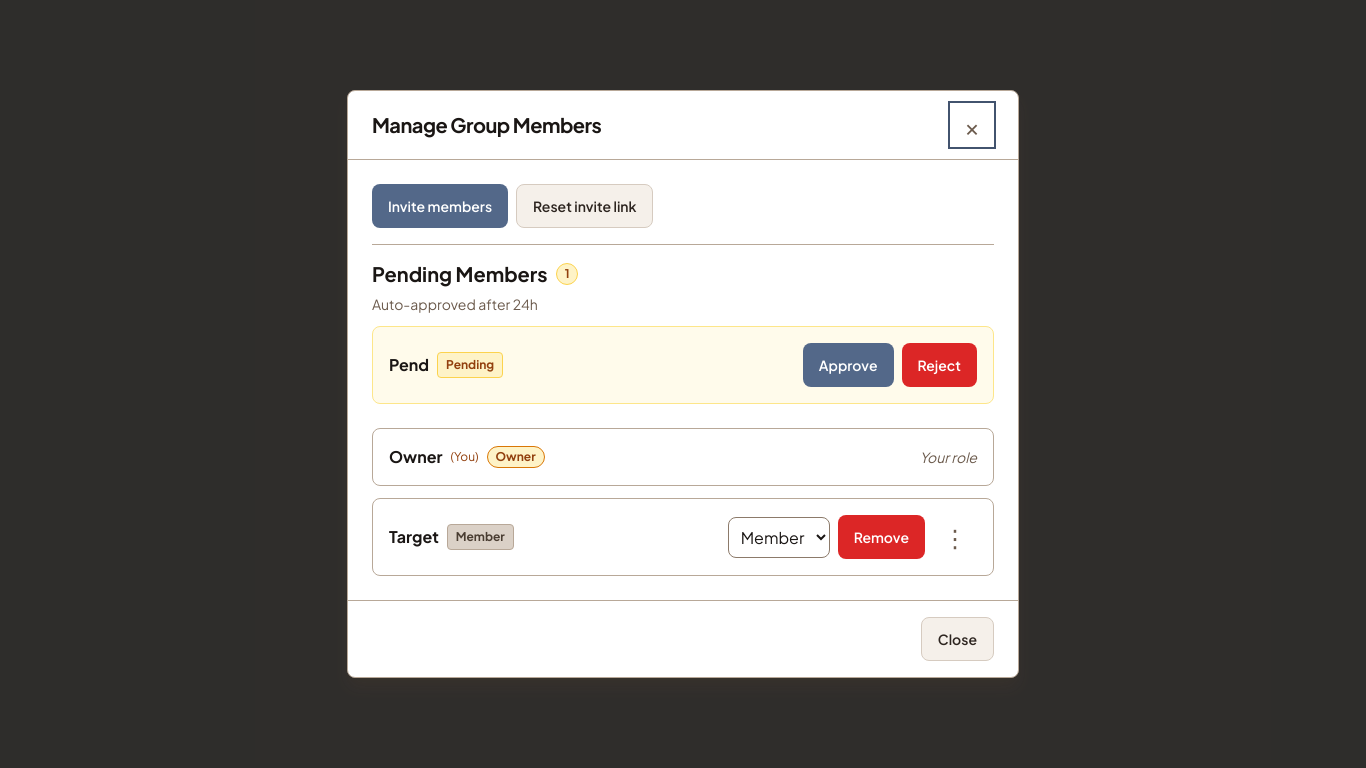
Test: ManageMembers Req 11 gates — blocking semantics (no API call until confirmed) › reject pending member: cancel aborts
expect the dialog "Manage Group Members" is shown: met, box x1=347 y1=90 x2=1019 y2=678
What coordinates should you click on to do the following:
click the button "Reject"
I would click on:
 (939, 365)
Its box is x1=902 y1=343 x2=977 y2=387.
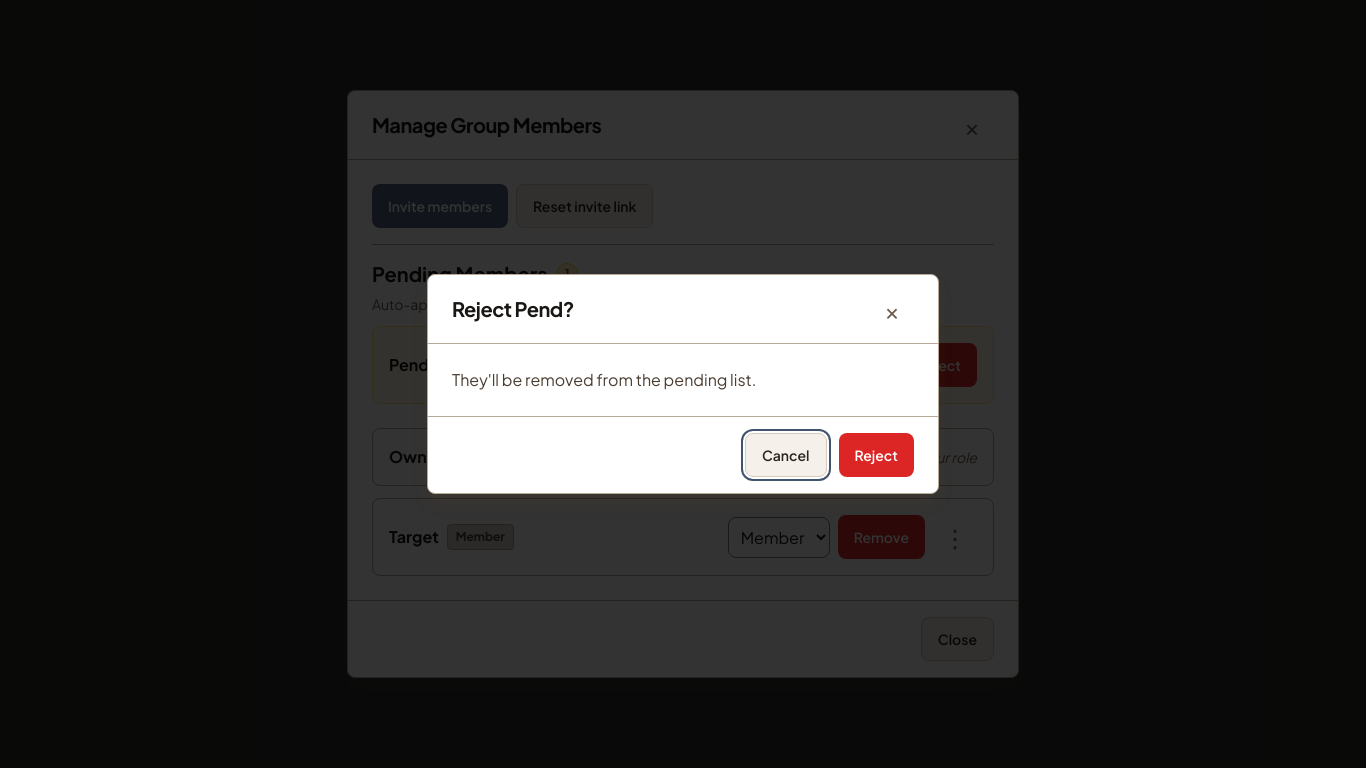
What coordinates should you click on to do the following:
click the button "Cancel"
I would click on:
 (786, 455)
Its box is x1=745 y1=433 x2=826 y2=477.
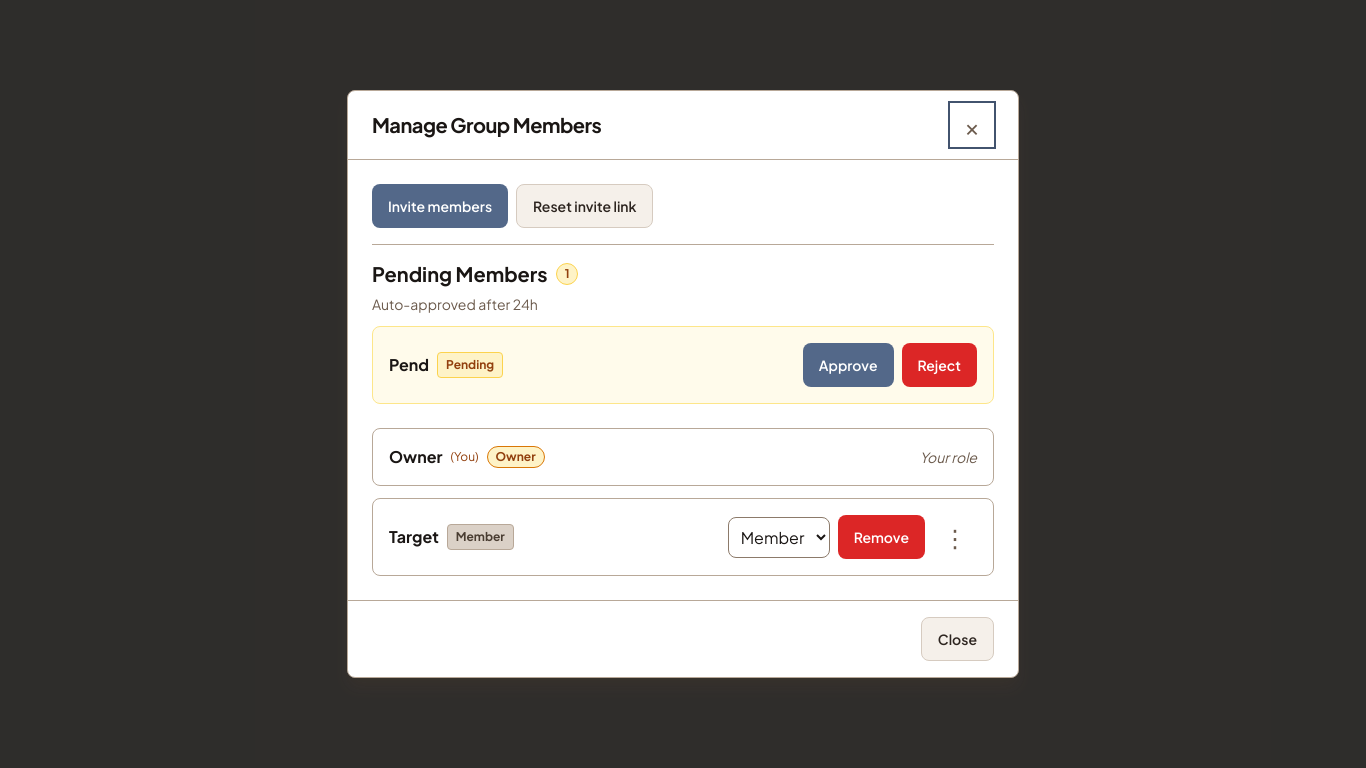
expect the heading "Reject Pend" is gone: met
